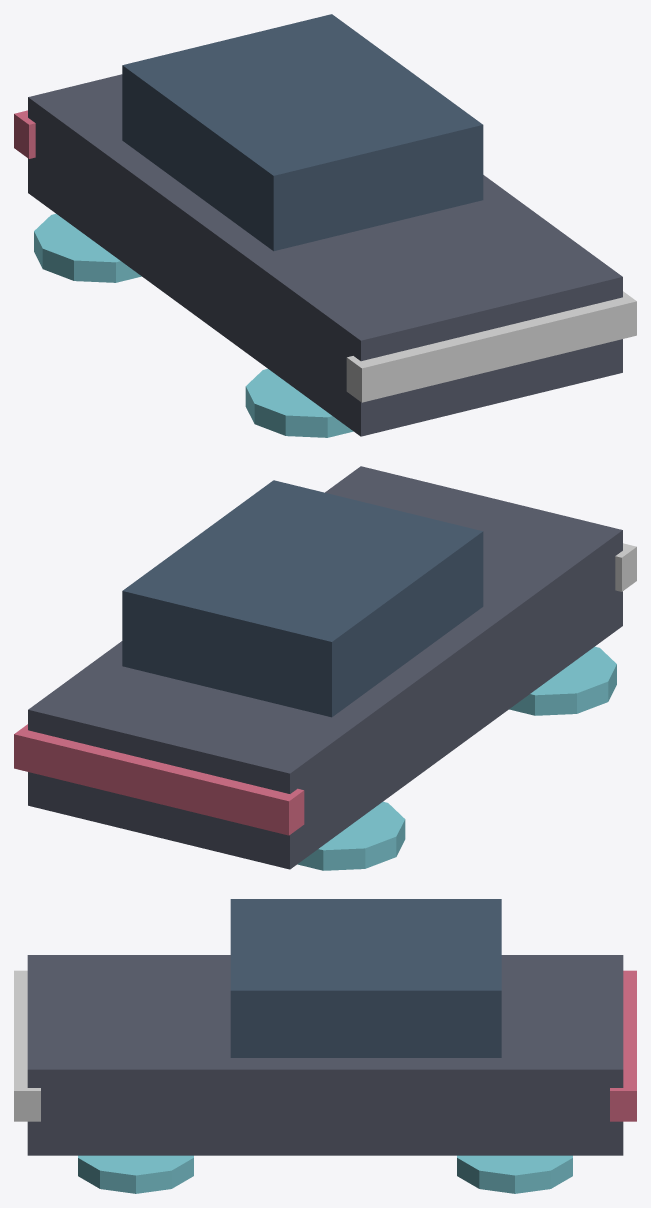
Rendered from c_auto_a.glb.
3 renders of one model, top to bottom at view 1: azimuth 30°, elevation 25°; view 2: azimuth 150°, elevation 25°; view 3: azimuth 270°, elevation 25°, orthographic. The views are drawn at different scales.
Visible parts, largest first — view 1: koerper, leuchten; view 2: koerper, leuchten; view 3: koerper, leuchten.
Part boxes in pixels (<box>): koerper: <box>28,14,622,436</box>; leuchten: <box>14,110,636,437</box>; koerper: <box>28,466,622,869</box>; leuchten: <box>14,543,636,870</box>; koerper: <box>27,899,623,1155</box>; leuchten: <box>14,970,636,1193</box>.
Bounding box in the file's own units: 2.7 × 1.4 × 4.6.
